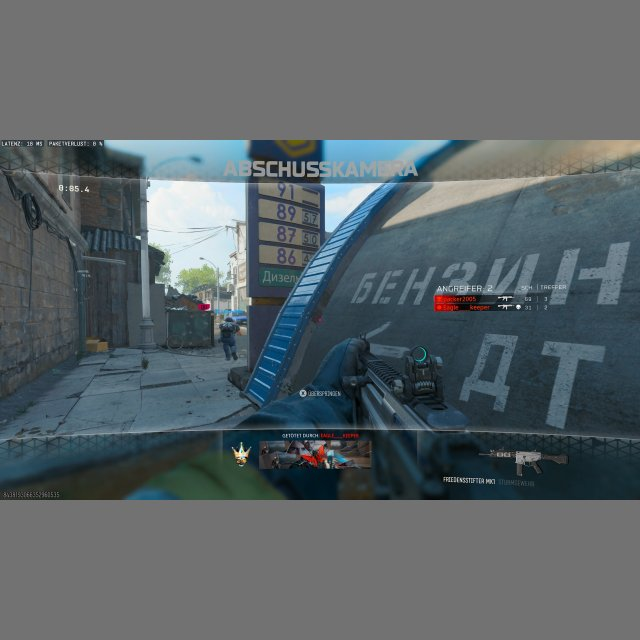player: (219, 316, 239, 361)
